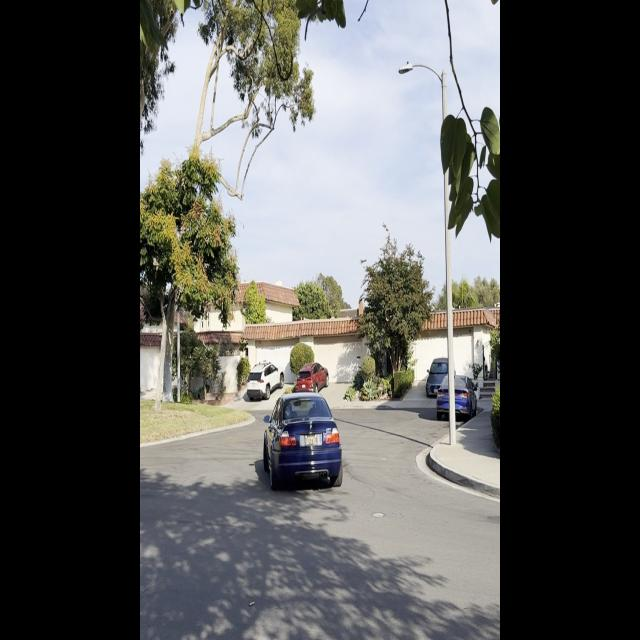Carbeetle: (258, 388, 350, 500)
Civilian: (435, 372, 479, 422), (245, 358, 287, 403), (292, 360, 334, 397), (426, 355, 456, 397)
